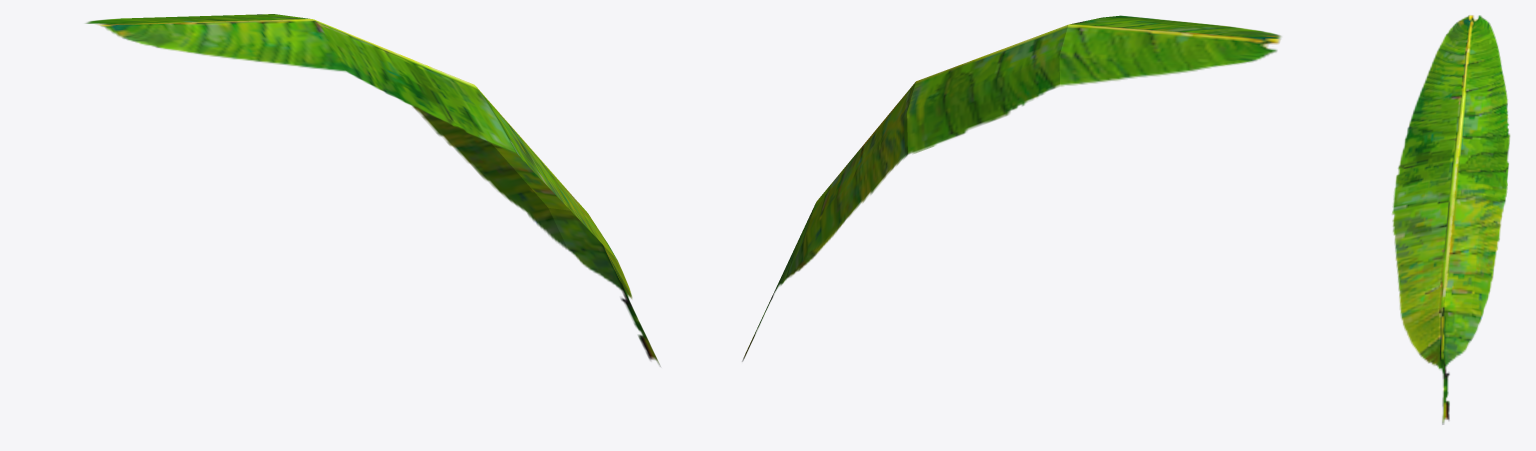
File: BananaPlant_1_Leaf_1.gltf
3 renders of one model, left to right at view 1: azimuth 30°, elevation 25°; view 2: azimuth 150°, elevation 25°; view 3: azimuth 270°, elevation 25°, orthographic. The views are drawn at different scales.
Visible parts, largest first — view 1: BananaPlant_1_Leaf_1; view 2: BananaPlant_1_Leaf_1; view 3: BananaPlant_1_Leaf_1.
Part boxes in pixels (x1,y1,x2,y2): BananaPlant_1_Leaf_1: [85, 14, 660, 366]; BananaPlant_1_Leaf_1: [742, 15, 1280, 361]; BananaPlant_1_Leaf_1: [1392, 15, 1509, 424].
Size of the model in its own units: 1.25 by 1 by 0.4594.
Materials: 1 (1 with a texture image).
